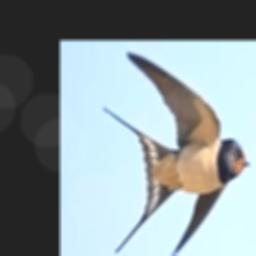Swallow: (103, 51, 250, 256)
